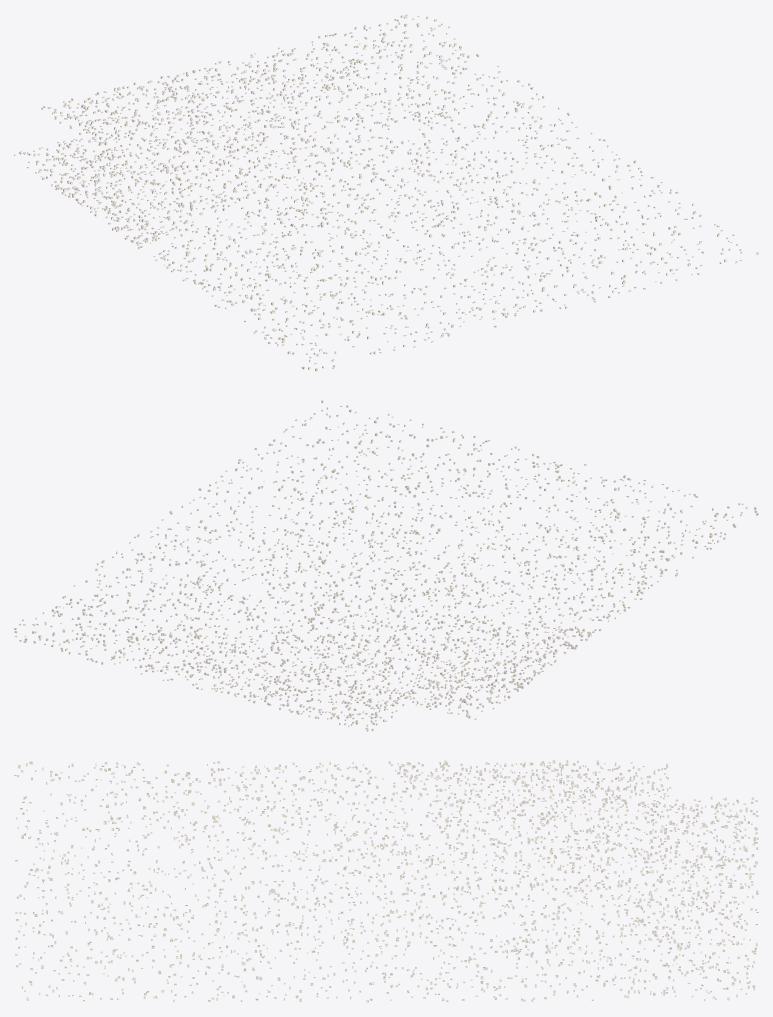
The model's file is SM_JeddahCorniche_Far_City_2.fbx.
3 views of the same model, one above another, from view 1: azimuth 30°, elevation 25°; view 2: azimuth 150°, elevation 25°; view 3: azimuth 270°, elevation 25° (orthographic). The views are drawn at different scales.
Parts seen in each view (by area): view 1: SM_JeddahCorniche_Far_City_2; view 2: SM_JeddahCorniche_Far_City_2; view 3: SM_JeddahCorniche_Far_City_2.
Part boxes in pixels (x1,y1,x2,y2): SM_JeddahCorniche_Far_City_2: (14,14,758,371); SM_JeddahCorniche_Far_City_2: (14,400,758,731); SM_JeddahCorniche_Far_City_2: (14,760,758,1002).
Bounding box in the file's own units: 702323 × 10277 × 903220.
